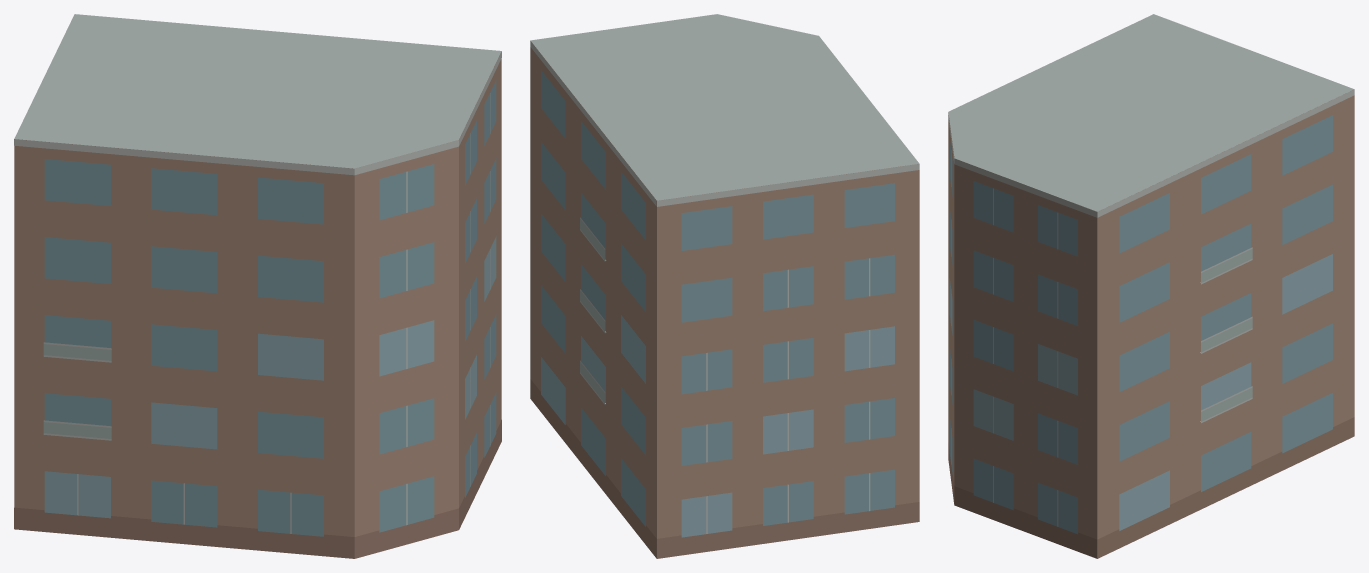
Rendered from survey-upis-32523440.glb.
3 views of the same model, side by side, from view 1: azimuth 30°, elevation 25°; view 2: azimuth 150°, elevation 25°; view 3: azimuth 270°, elevation 25° (orthographic). The views are drawn at different scales.
Parts seen in each view (by area): view 1: survey-upis-32523440.tmp; view 2: survey-upis-32523440.tmp; view 3: survey-upis-32523440.tmp.
Part boxes in pixels (x1,y1,x2,y2): survey-upis-32523440.tmp: [14, 14, 501, 558]; survey-upis-32523440.tmp: [530, 14, 919, 558]; survey-upis-32523440.tmp: [948, 14, 1354, 558].
Bounding box in the file's own units: 17.37 × 14.2 × 15.07.
